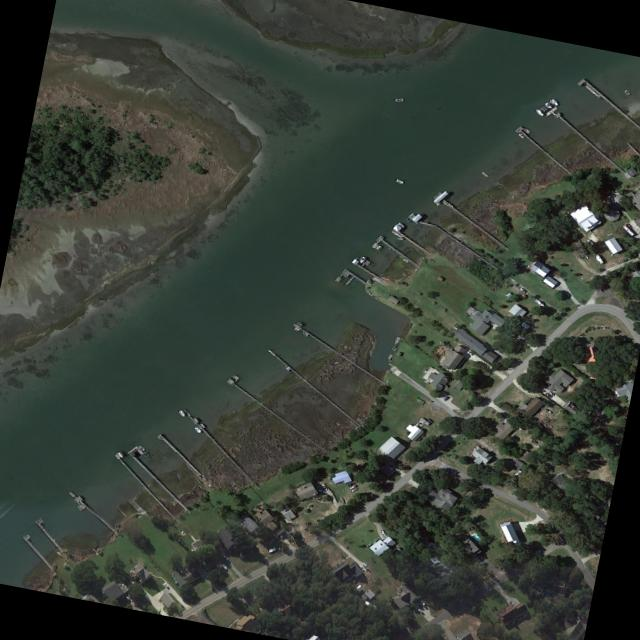ship: (535, 298, 546, 306), (535, 108, 545, 116), (551, 97, 559, 106), (178, 409, 187, 417), (586, 237, 594, 245), (359, 255, 366, 263), (194, 426, 202, 433), (117, 450, 124, 458), (138, 444, 146, 451), (396, 221, 405, 227), (395, 178, 405, 183), (545, 101, 552, 108), (515, 469, 523, 475), (268, 547, 276, 552), (375, 245, 382, 249), (533, 444, 540, 447)
small-vehicle: (380, 528, 387, 535), (421, 601, 428, 608), (545, 407, 553, 413), (519, 286, 527, 292), (347, 481, 356, 486), (363, 562, 369, 569), (417, 607, 424, 613), (509, 600, 515, 607), (626, 222, 633, 228), (549, 390, 556, 396), (349, 484, 357, 489), (358, 564, 364, 570), (428, 417, 434, 423), (164, 582, 170, 588), (466, 350, 473, 355), (443, 395, 450, 400), (351, 487, 359, 491), (322, 484, 328, 489), (546, 392, 552, 397), (317, 489, 325, 492), (395, 98, 403, 100)
